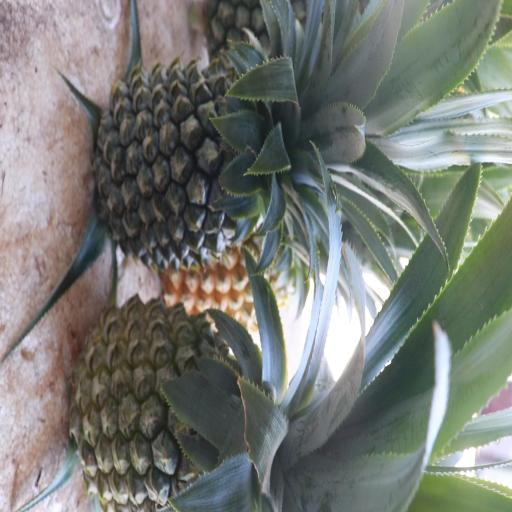------------------------------: (80, 296, 284, 507)
